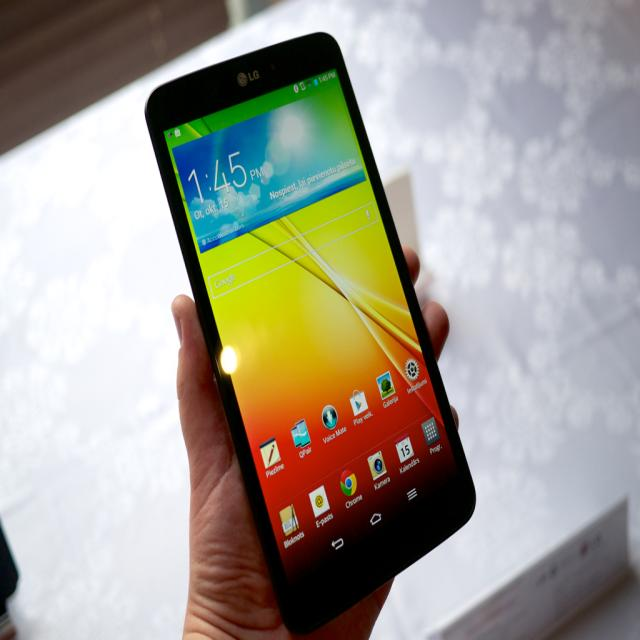Mobile-phone: (138, 30, 476, 639)
